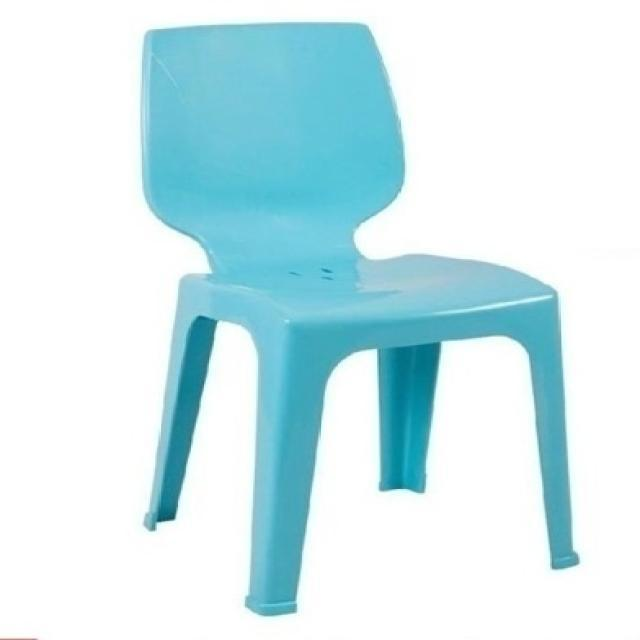chair: (136, 18, 584, 611)
